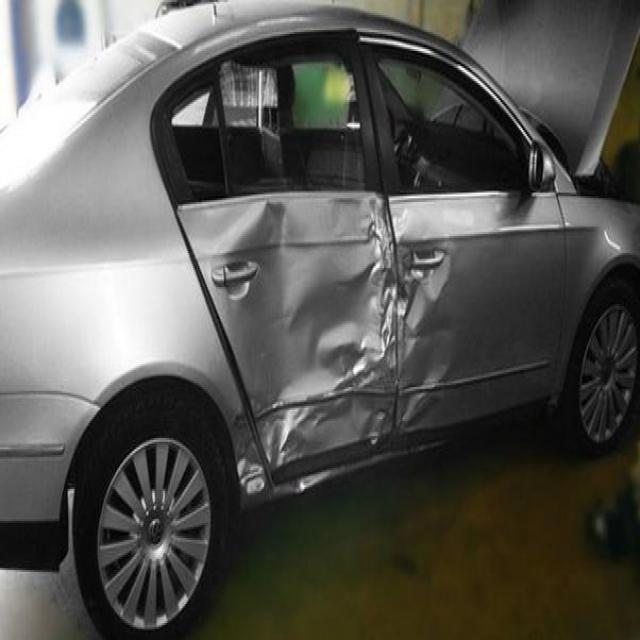dent: (218, 210, 444, 541)
